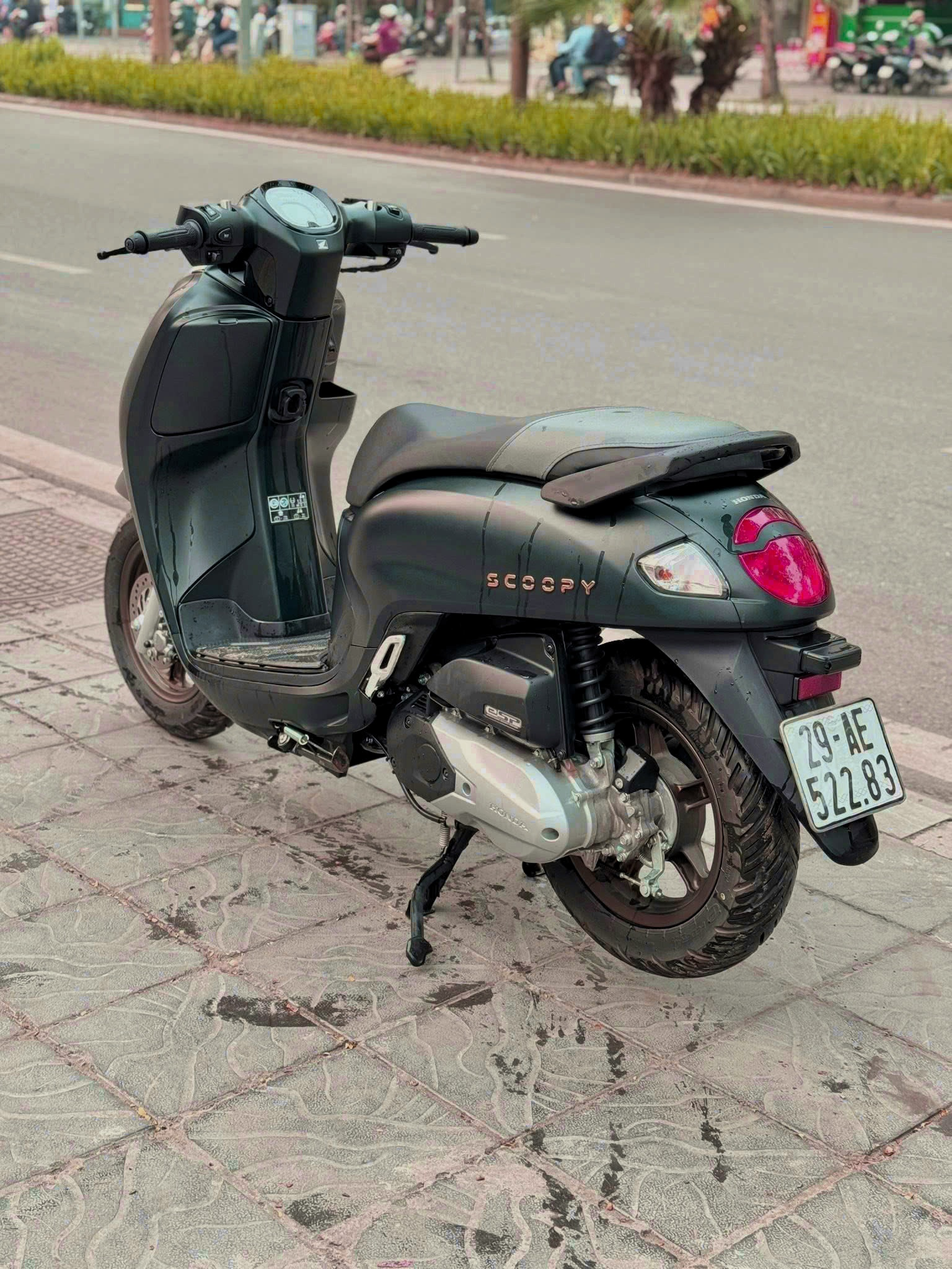Bien-so: (795, 705, 924, 842)
